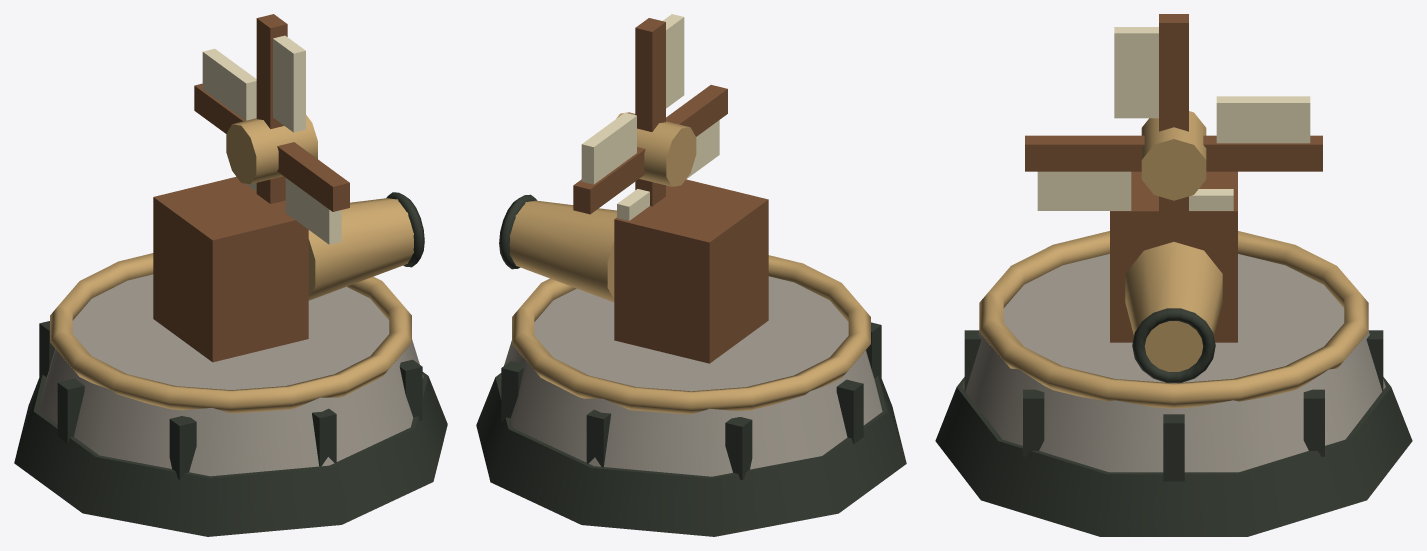
File: tower_wind_windCannon.glb
3 views of the same model, side by side, from view 1: azimuth 30°, elevation 25°; view 2: azimuth 150°, elevation 25°; view 3: azimuth 270°, elevation 25° (orthographic). The views are drawn at different scales.
Visible parts, largest first — view 1: stone_1, foot_0, mill_11, rim_2, air_nozzle_21, hub_12, sail_16, spar_17, sail_14, spar_15, sail_18, mortar_6 (+7 smaller); view 2: stone_1, foot_0, mill_11, rim_2, air_nozzle_21, spar_15, hub_12, sail_14, spar_13, spar_17, sail_16, mortar_8 (+7 smaller); view 3: stone_1, foot_0, rim_2, mill_11, air_nozzle_21, hub_12, sail_14, spar_17, sail_16, sail_18, spar_13, spar_15 (+8 smaller).
Part boxes in pixels (x1=…): stone_1: x1=38, y1=274, x2=423, y2=476; foot_0: x1=14, y1=372, x2=447, y2=536; mill_11: x1=153, y1=176, x2=308, y2=362; rim_2: x1=50, y1=253, x2=411, y2=413; air_nozzle_21: x1=308, y1=198, x2=413, y2=300; hub_12: x1=226, y1=115, x2=317, y2=184; sail_16: x1=273, y1=35, x2=305, y2=132; spar_17: x1=277, y1=142, x2=349, y2=211; sail_14: x1=202, y1=48, x2=256, y2=120; spar_15: x1=256, y1=14, x2=287, y2=129; sail_18: x1=285, y1=178, x2=341, y2=244; mortar_6: x1=169, y1=416, x2=196, y2=479; stone_1: x1=500, y1=276, x2=882, y2=476; foot_0: x1=476, y1=373, x2=906, y2=536; mill_11: x1=614, y1=179, x2=768, y2=363; rim_2: x1=512, y1=255, x2=870, y2=414; air_nozzle_21: x1=509, y1=200, x2=616, y2=302; spar_15: x1=635, y1=18, x2=665, y2=131; hub_12: x1=616, y1=112, x2=696, y2=186; sail_14: x1=581, y1=112, x2=636, y2=184; spar_13: x1=573, y1=147, x2=645, y2=214; spar_17: x1=666, y1=85, x2=727, y2=136; sail_16: x1=663, y1=14, x2=684, y2=108; mortar_8: x1=725, y1=417, x2=752, y2=480; stone_1: x1=962, y1=254, x2=1385, y2=472; foot_0: x1=935, y1=377, x2=1412, y2=536; rim_2: x1=979, y1=231, x2=1368, y2=408; mill_11: x1=1110, y1=171, x2=1237, y2=342; air_nozzle_21: x1=1125, y1=242, x2=1222, y2=371; hub_12: x1=1141, y1=111, x2=1206, y2=200; sail_14: x1=1216, y1=96, x2=1310, y2=143; spar_17: x1=1025, y1=135, x2=1144, y2=171; sail_16: x1=1114, y1=27, x2=1158, y2=118; sail_18: x1=1037, y1=171, x2=1131, y2=210; spar_13: x1=1203, y1=135, x2=1322, y2=171; spar_15: x1=1159, y1=14, x2=1188, y2=131.
Bounding box in the file's own units: 0.5326 × 0.575 × 0.56.
